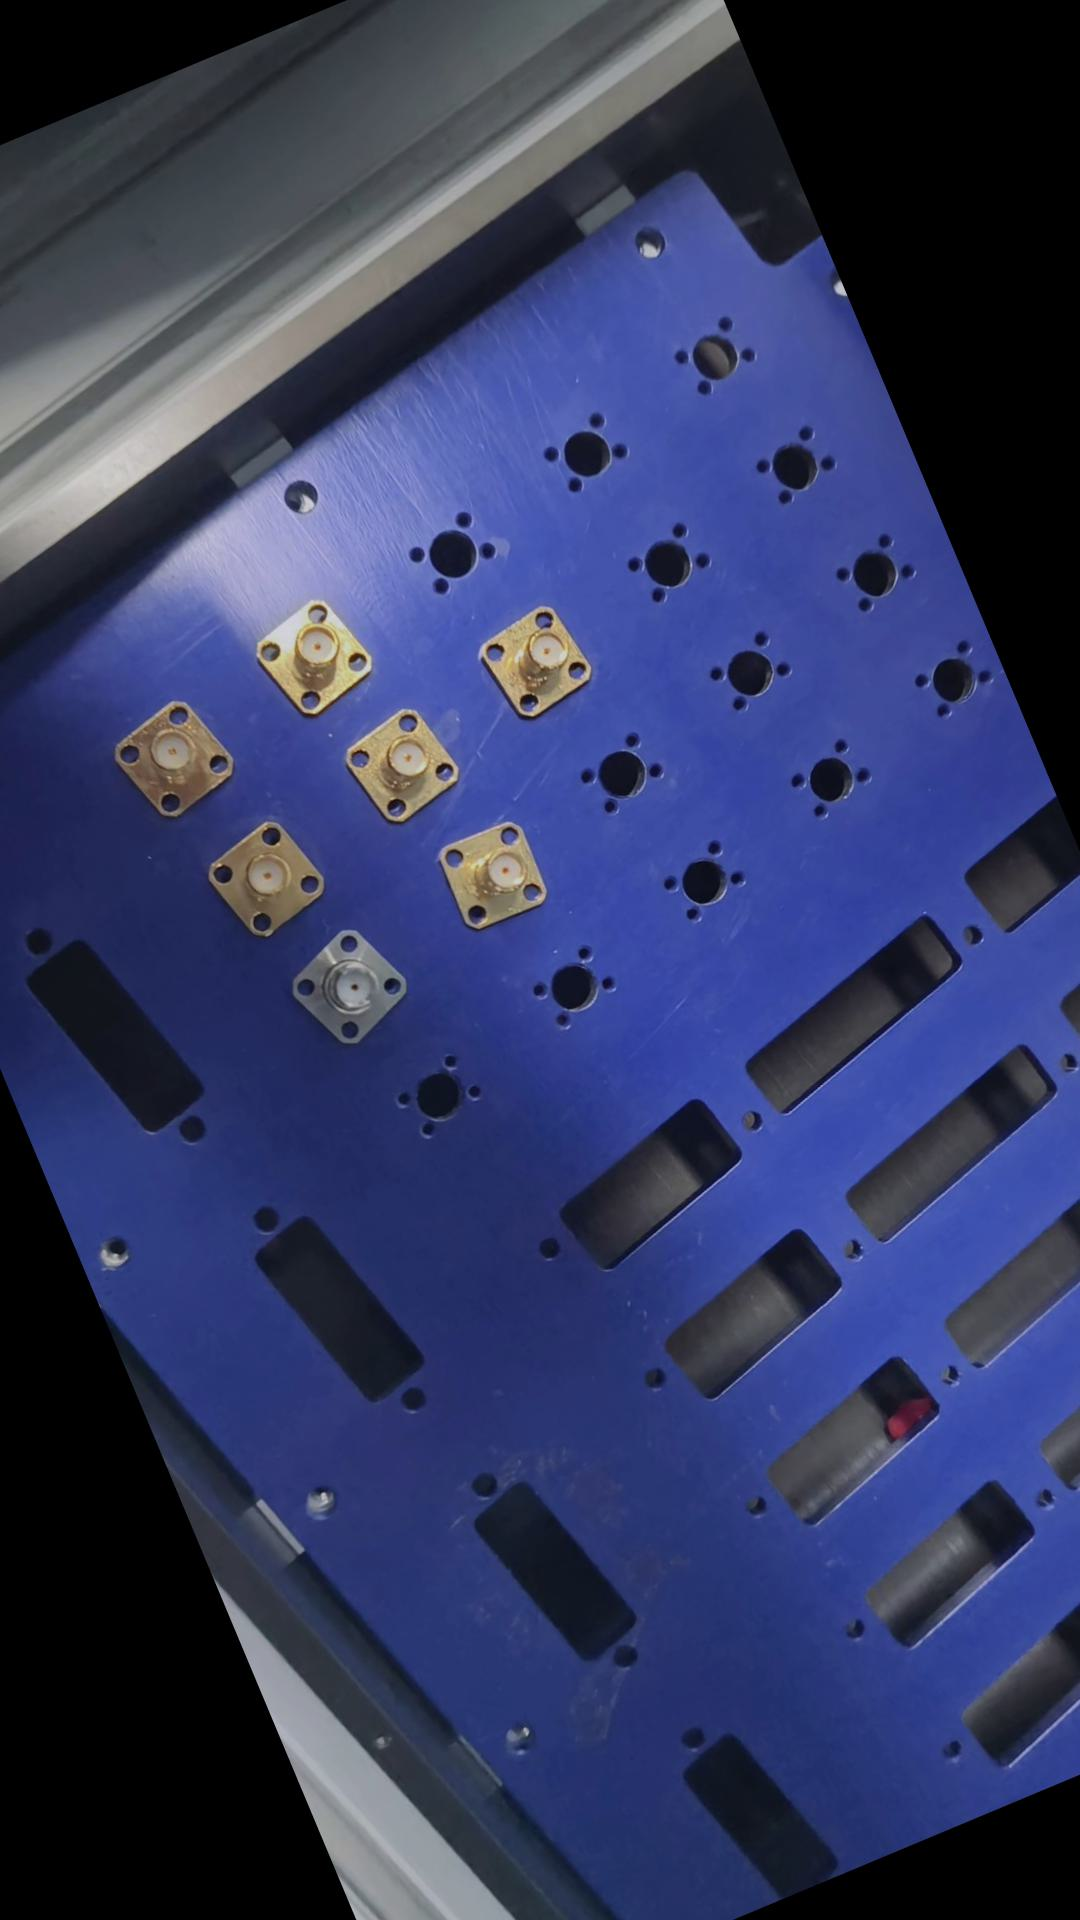SMA: (99, 687, 255, 833), (278, 913, 429, 1056), (245, 582, 393, 723), (425, 807, 567, 945), (200, 807, 343, 945), (335, 698, 477, 832), (473, 593, 607, 731)
